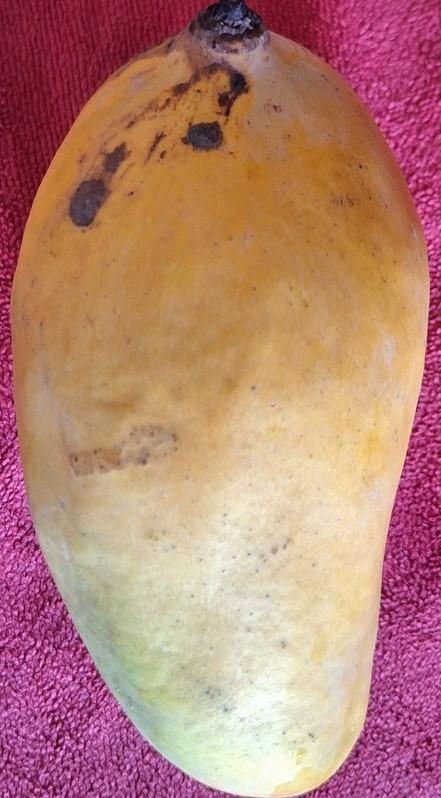mango: (9, 0, 430, 797)
